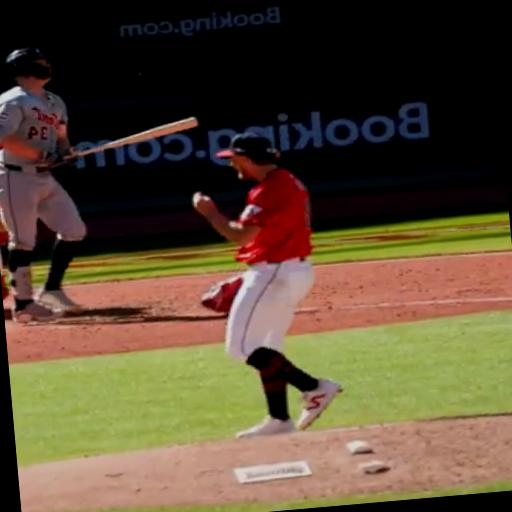bat: (47, 117, 197, 169), (73, 117, 197, 157)
